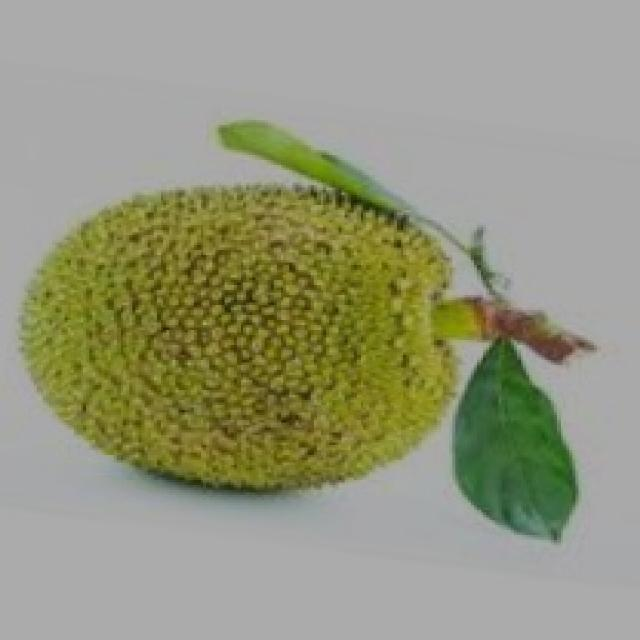Fruit: (68, 150, 492, 515)
